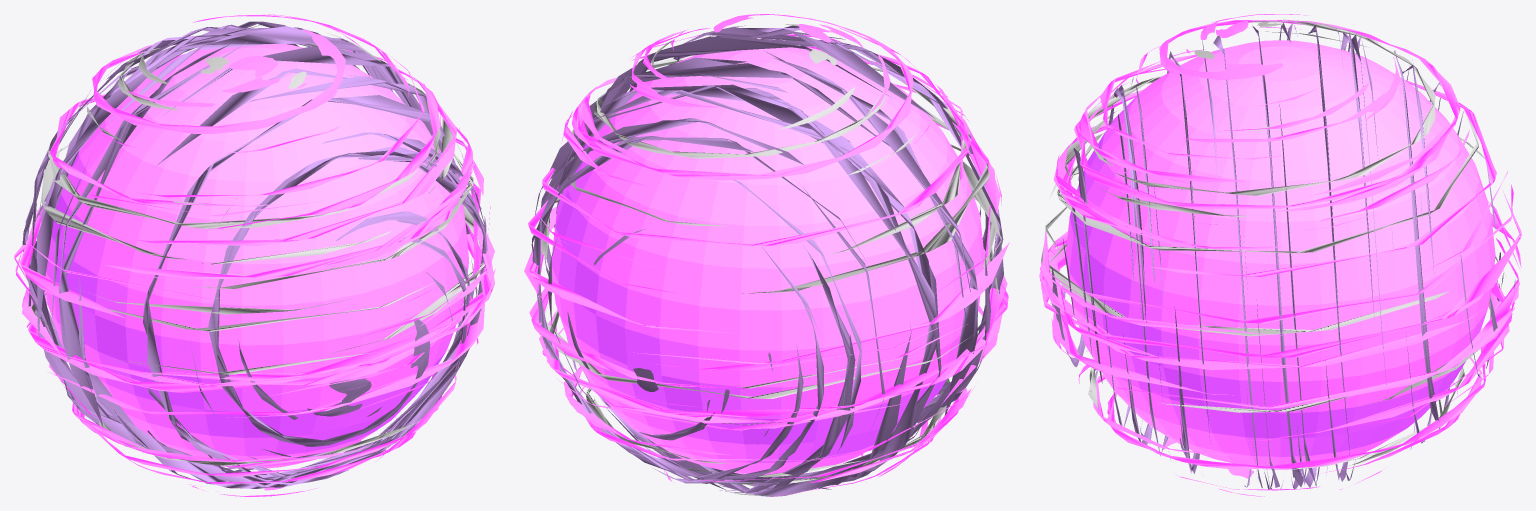
The model's file is Pink.fbx.
3 renders of one model, left to right at view 1: azimuth 30°, elevation 25°; view 2: azimuth 150°, elevation 25°; view 3: azimuth 270°, elevation 25°, orthographic.
Visible parts, largest first — view 1: Pink; view 2: Pink; view 3: Pink.
Boxes of the visible parts, x1,y1,x2,y2 form: Pink: (14, 14, 495, 496); Pink: (524, 14, 1009, 496); Pink: (1039, 14, 1521, 496).
Bounding box in the file's own units: 332 × 329 × 331.
